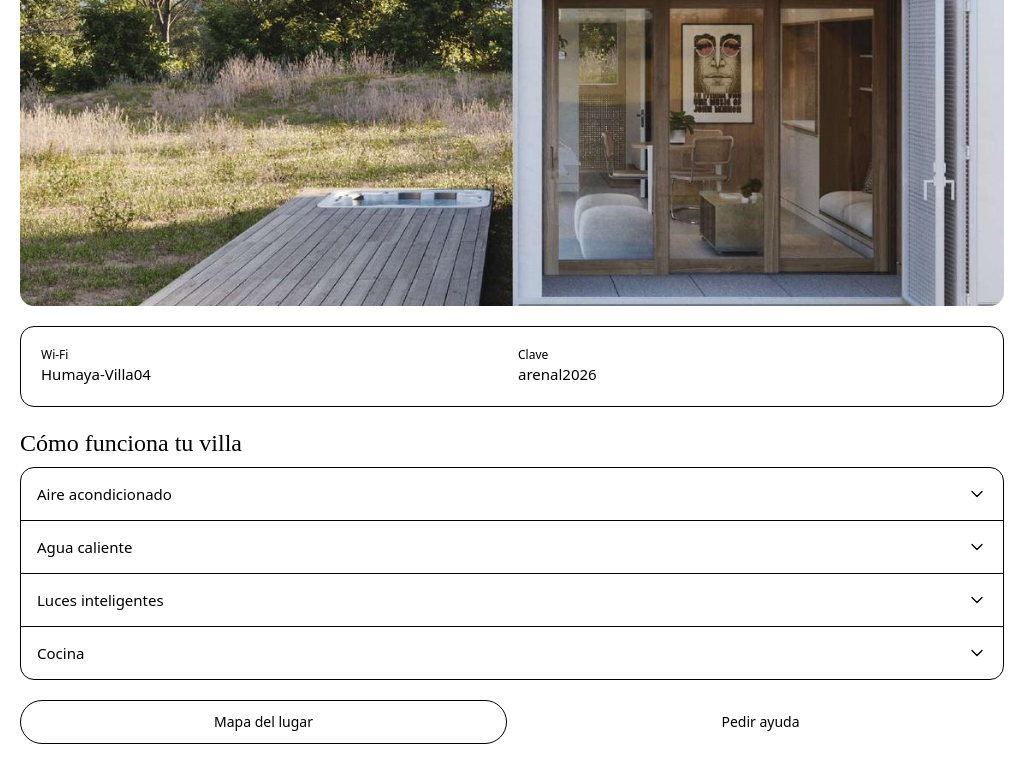
Test: Mi villa › los instructivos arrancan cerrados y se abren de a uno
(page scrolled)
Click the button "Aire acondicionado": (104, 494) [21, 468, 1003, 520]
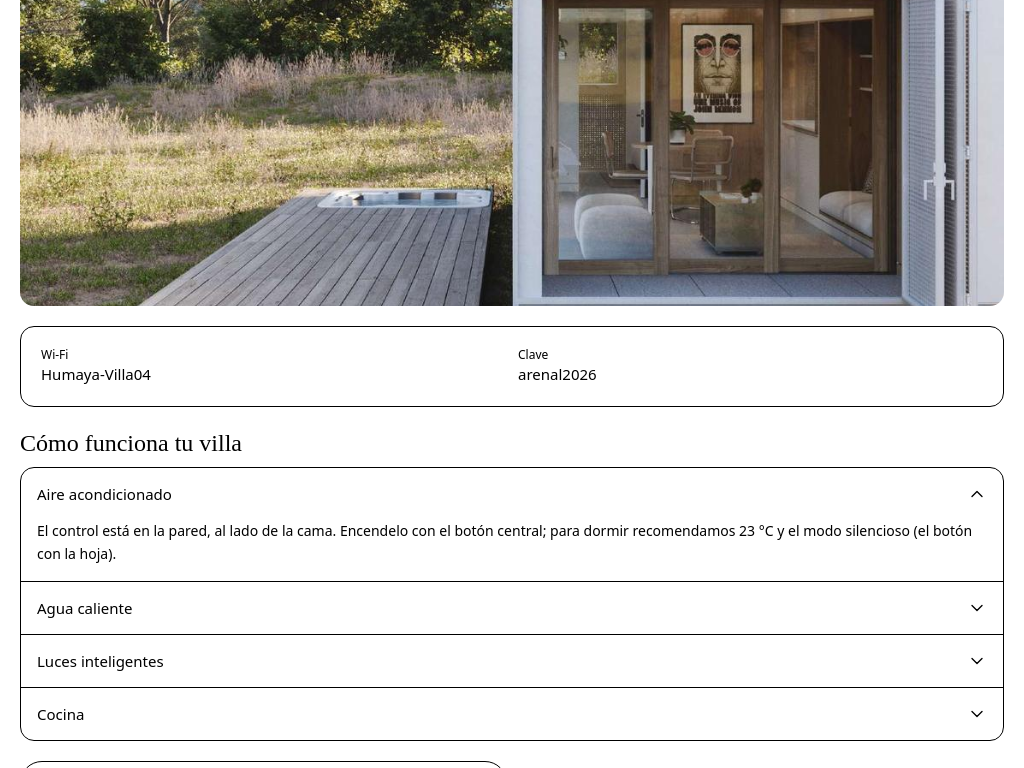
Expected: the button "Aire acondicionado" is expanded, [21, 468, 1003, 520]
Expected: the text "al lado de la cama" is shown, [37, 521, 972, 563]
